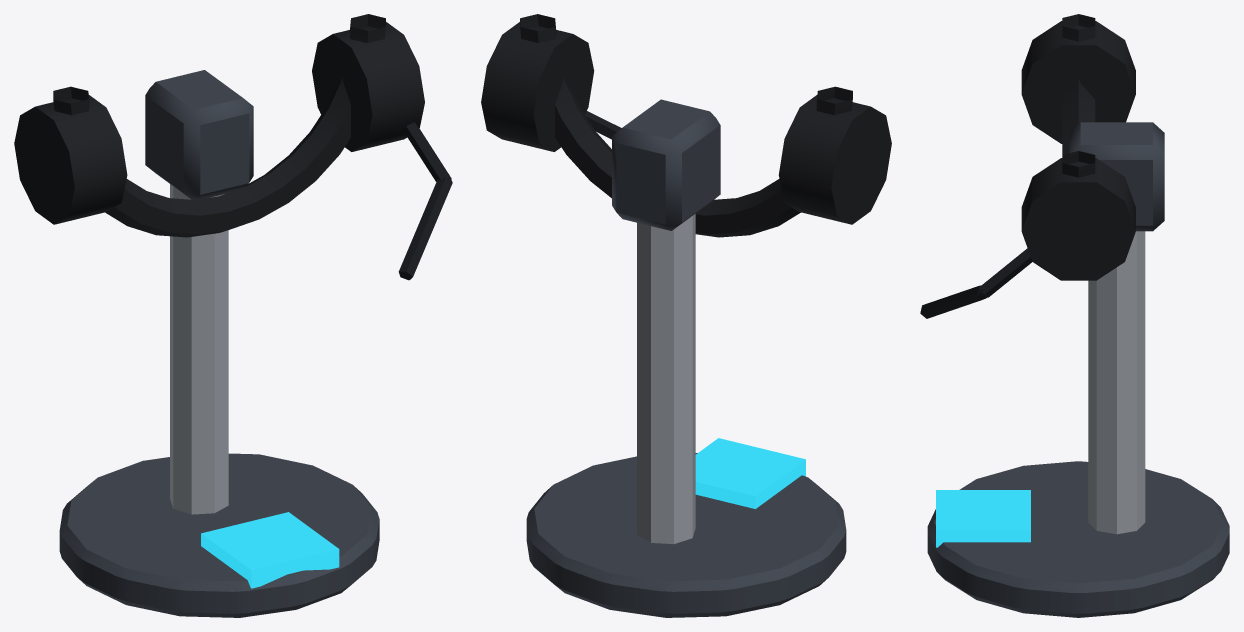
The model's file is terminal_headset_dock.glb.
The picture shows the model from 3 angles, left to right: view 1: azimuth 30°, elevation 25°; view 2: azimuth 150°, elevation 25°; view 3: azimuth 270°, elevation 25°; orthographic projection. The views are drawn at different scales.
Parts seen in each view (by area): view 1: terminal_headset_dock; view 2: terminal_headset_dock; view 3: terminal_headset_dock.
Boxes of the visible parts, x1,y1,x2,y2 form: terminal_headset_dock: (14,14,452,617); terminal_headset_dock: (481,14,891,617); terminal_headset_dock: (920,14,1229,617).
Bounding box in the file's own units: 0.204 × 0.27 × 0.1624.
